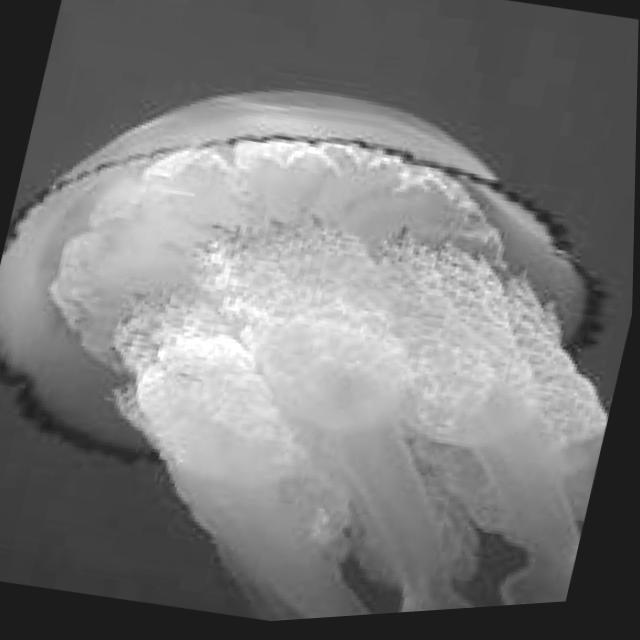Box-jellyfish: (0, 16, 639, 640)
